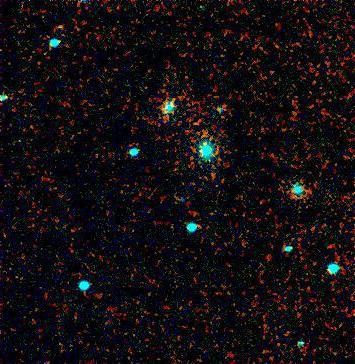star: (45, 13, 75, 43)
